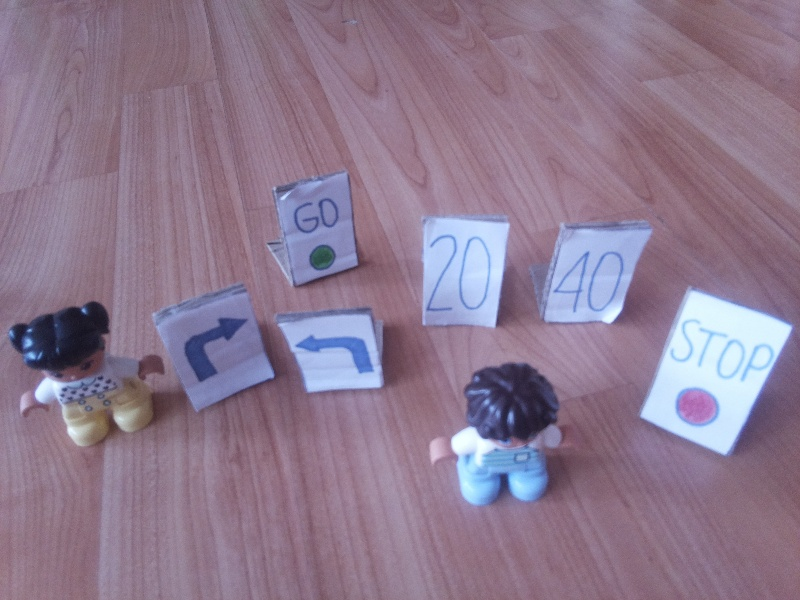20: (428, 232, 490, 316)
40: (556, 243, 623, 318)
go: (287, 189, 342, 269)
person: (6, 294, 162, 462), (425, 362, 567, 510)
stop: (671, 312, 773, 445)
turn left: (293, 326, 377, 380)
turn right: (181, 315, 251, 389)
